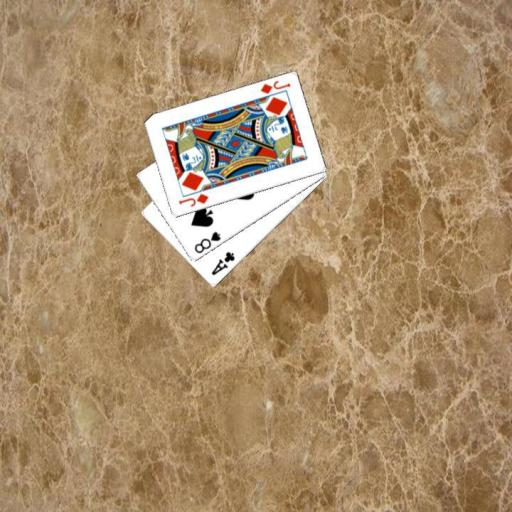8S: (191, 229, 223, 255)
AC: (208, 249, 236, 277)
JD: (257, 78, 292, 96), (176, 191, 210, 209)
